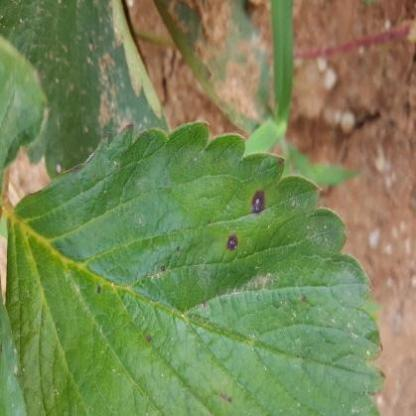Strawberry_Leaf_Spot: (5, 121, 387, 415), (0, 0, 173, 182)
